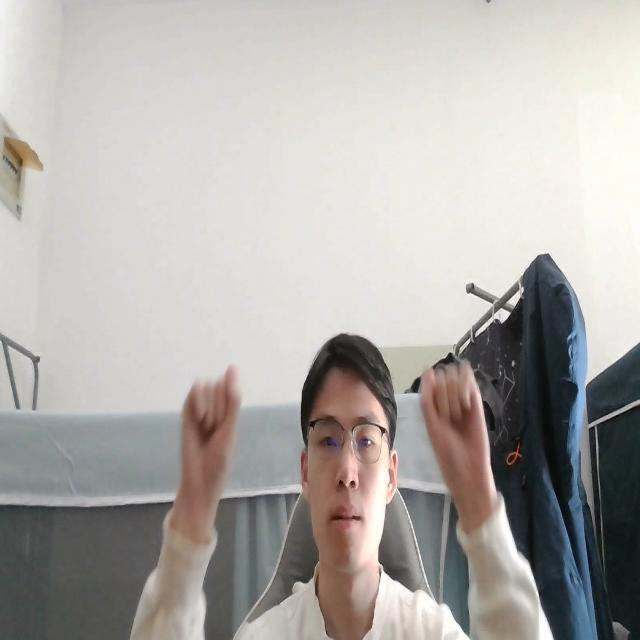ten: (414, 350, 500, 525), (175, 357, 244, 526)
